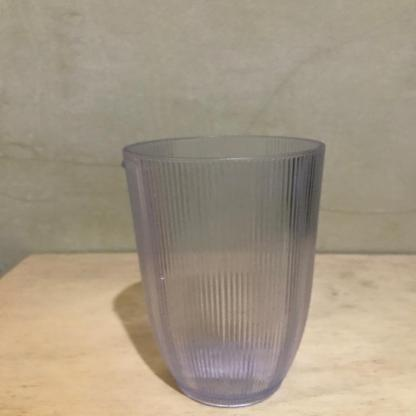glass: (114, 116, 318, 408)
